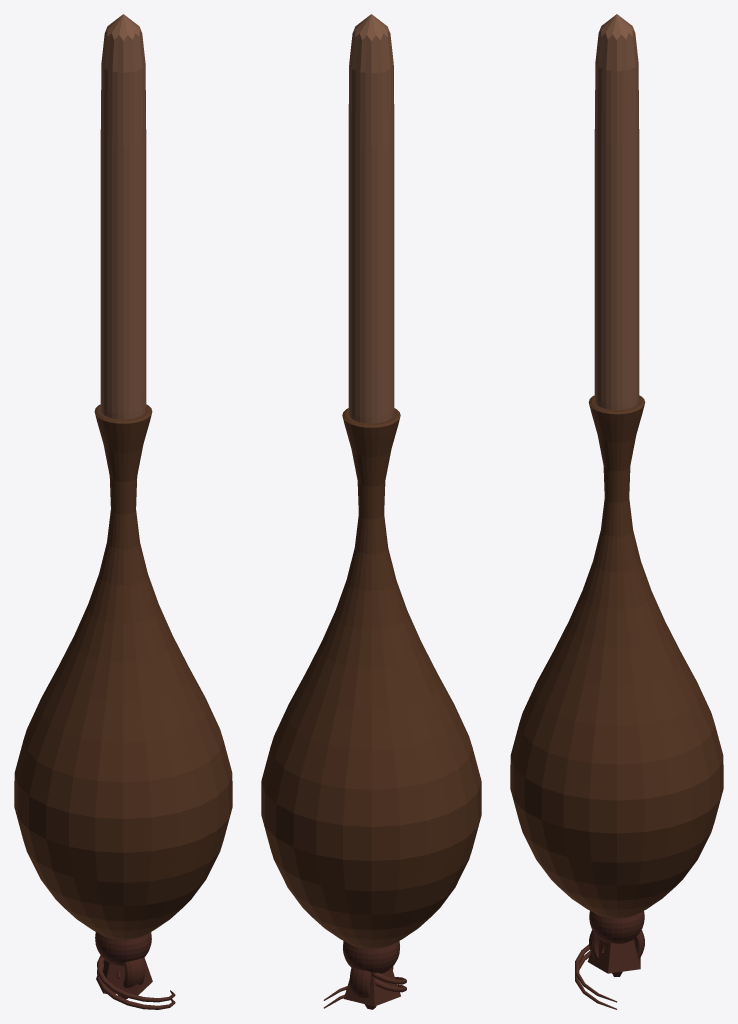
The model's file is Wand 919.glb.
The picture shows the model from 3 angles, left to right: view 1: azimuth 30°, elevation 25°; view 2: azimuth 150°, elevation 25°; view 3: azimuth 270°, elevation 25°; orthographic projection. The views are drawn at different scales.
Visible parts, largest first — view 1: GeneratedWand, Pommel_4, Pommel_9, Pommel_2; view 2: GeneratedWand, Pommel_4, Pommel_9, Pommel_2; view 3: GeneratedWand, Pommel_4, Pommel_9.
Boxes of the visible parts, <box> form: GeneratedWand: <box>14,14,232,1002</box>; Pommel_4: <box>95,932,151,965</box>; Pommel_9: <box>96,957,152,995</box>; Pommel_2: <box>123,958,144,987</box>; GeneratedWand: <box>261,14,481,1000</box>; Pommel_4: <box>343,941,399,973</box>; Pommel_9: <box>344,967,400,1006</box>; Pommel_2: <box>349,966,393,997</box>; GeneratedWand: <box>510,14,723,1002</box>; Pommel_4: <box>589,911,644,943</box>; Pommel_9: <box>587,939,640,973</box>.
Size of the model in its own units: 0.1026 by 0.5162 by 0.1026.
